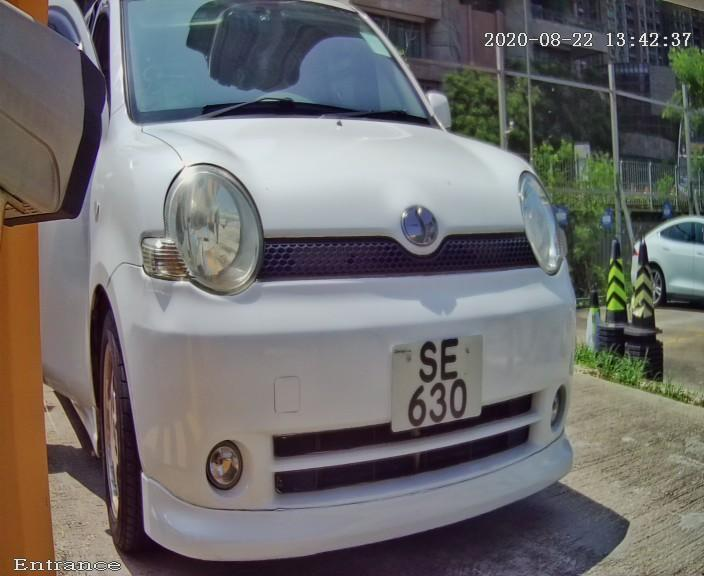License Plate: (384, 322, 500, 440)
